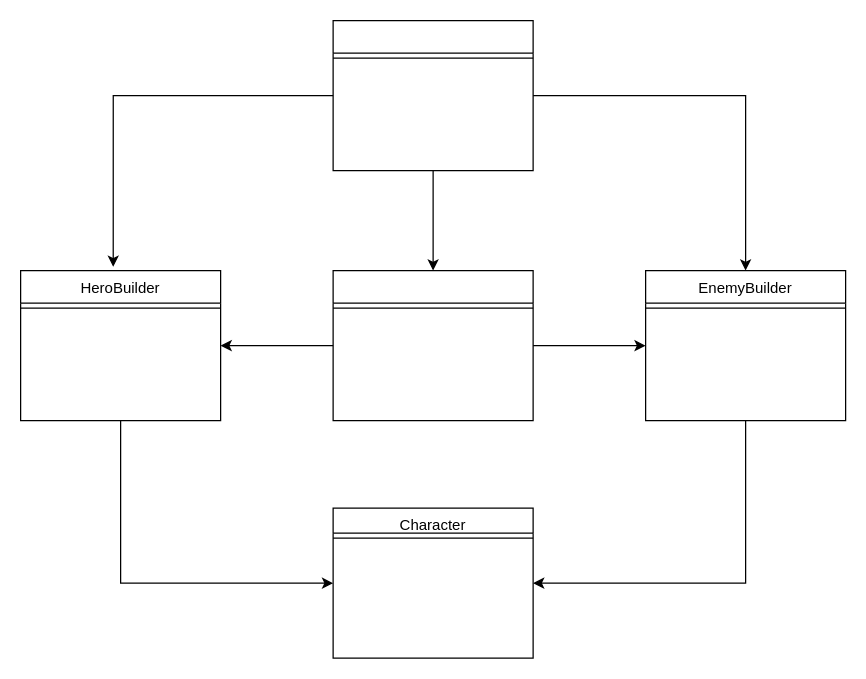
Image size: 866x679. Some labels were removed from this diagram. The box of each missing label's shape, as (x1, y1, x2, y2) in pixels:
Builder: (332, 269, 533, 421)
Director: (332, 19, 533, 171)
